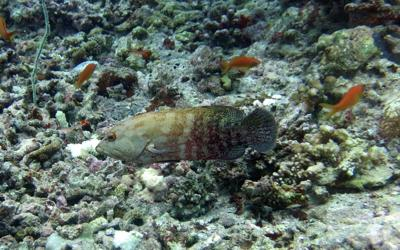Serranidae -Groupers-: (92, 102, 279, 166)
